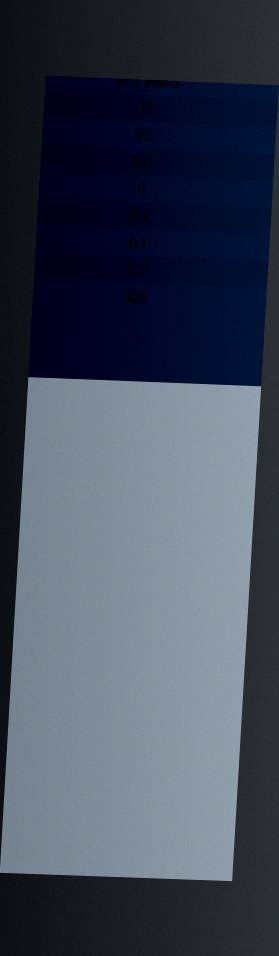carbs: (128, 205, 153, 226)
energy: (137, 98, 157, 119)
fat: (133, 125, 157, 146)
protein: (125, 259, 149, 280)
